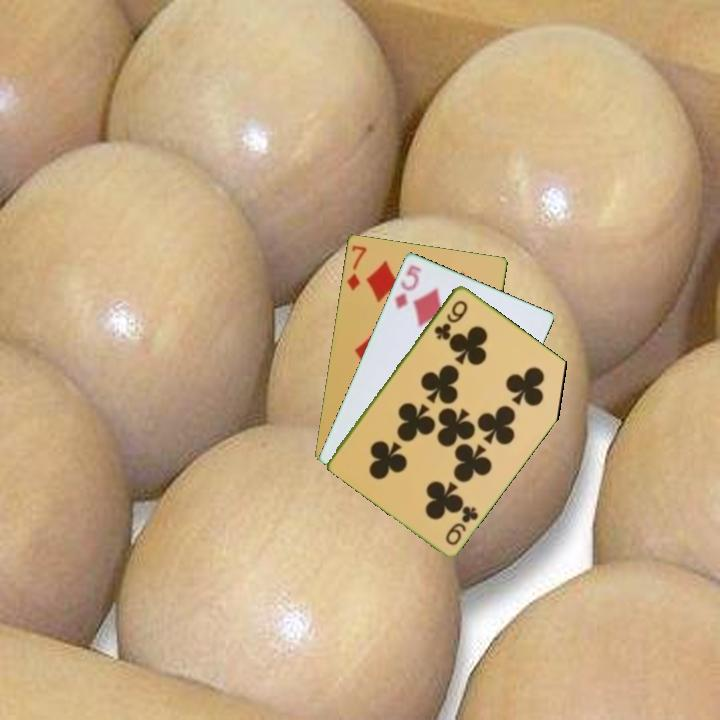5d: (391, 261, 425, 312)
7d: (343, 241, 369, 293)
9c: (430, 296, 471, 342), (442, 502, 482, 548)
